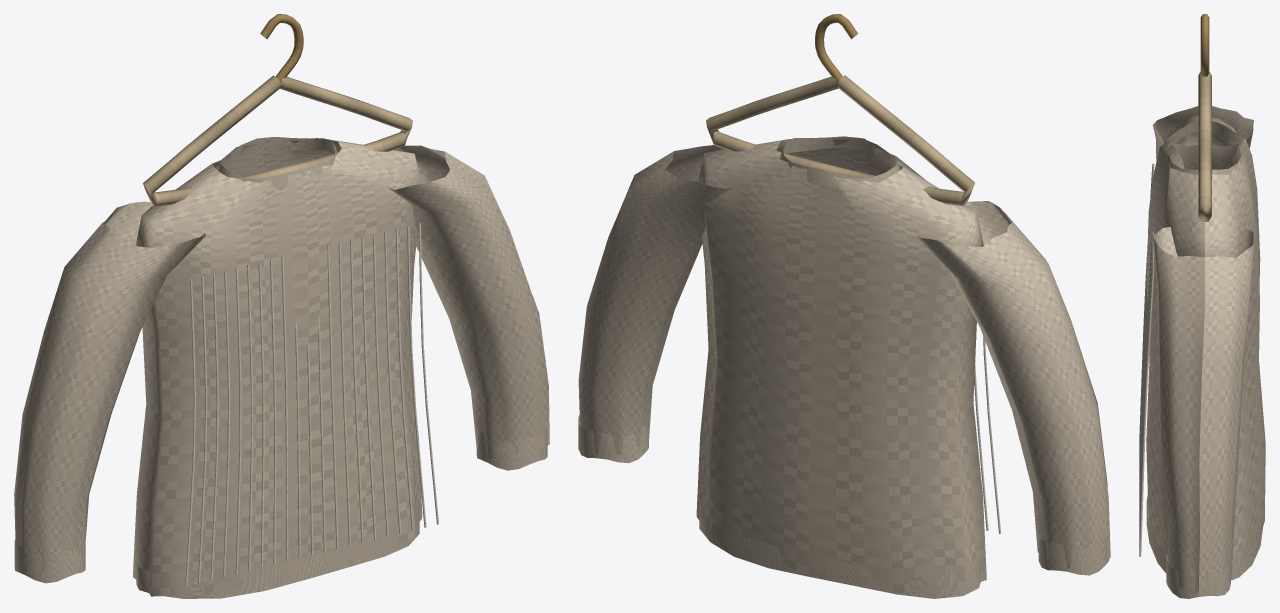
3 views of the same model, side by side, from view 1: azimuth 30°, elevation 25°; view 2: azimuth 150°, elevation 25°; view 3: azimuth 270°, elevation 25° (orthographic). The views are drawn at different scales.
Visible parts, largest first — view 1: fabric_linen, fabric_cream, ash_grain, aged_brass; view 2: fabric_linen, ash_grain, fabric_cream, aged_brass; view 3: fabric_linen, ash_grain, fabric_cream, aged_brass.
Part boxes in pixels (x1,y1,x2,y2): fabric_linen: (14,137,549,598); fabric_cream: (185,222,438,585); ash_grain: (143,75,412,206); aged_brass: (260,14,303,82); fabric_linen: (578,136,1110,598); ash_grain: (706,75,974,206); fabric_cream: (974,336,1001,533); aged_brass: (815,14,858,82); fabric_linen: (1146,106,1265,598); ash_grain: (1198,72,1211,221); fabric_cream: (1139,163,1154,556); aged_brass: (1200,14,1209,76).
Size of the model in its own units: 0.9217 by 0.9111 by 0.2032.
4 materials, 3 textured.
